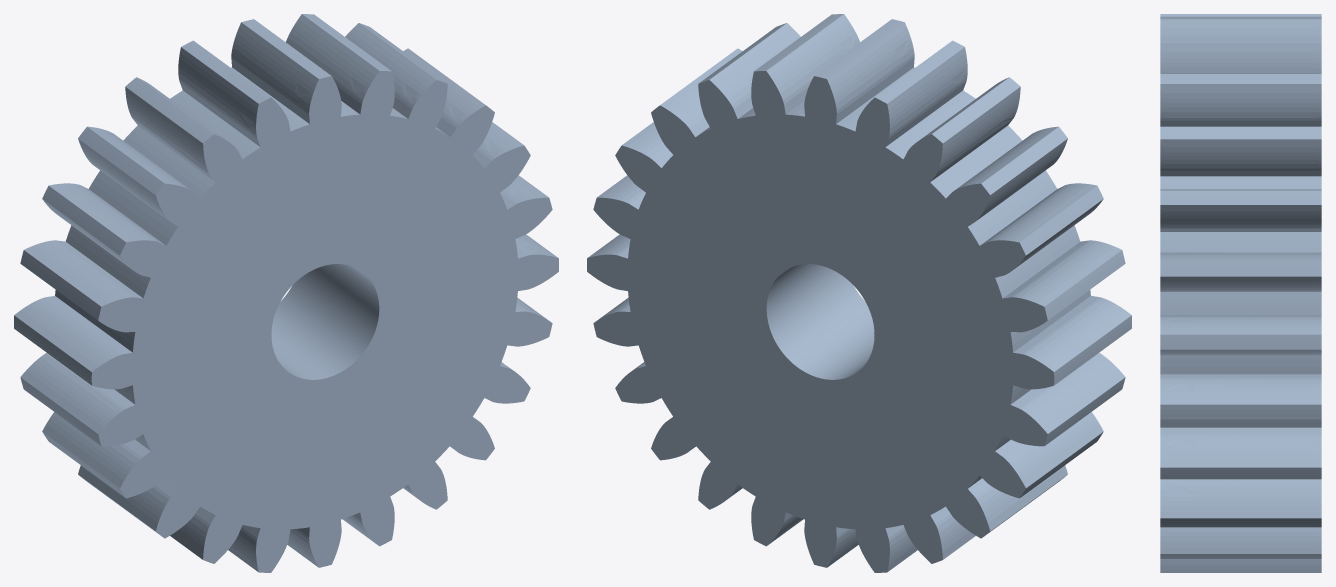
File: gear-model.glb
3 renders of one model, left to right at view 1: azimuth 30°, elevation 25°; view 2: azimuth 150°, elevation 25°; view 3: azimuth 270°, elevation 25°, orthographic. The views are drawn at different scales.
Visible parts, largest first — view 1: Imported CAD; view 2: Imported CAD; view 3: Imported CAD.
Boxes of the visible parts, <box> form: Imported CAD: <box>14,14,558,572</box>; Imported CAD: <box>587,14,1131,572</box>; Imported CAD: <box>1160,14,1321,572</box>.
Bounding box in the file's own units: 52 × 52 × 15.
